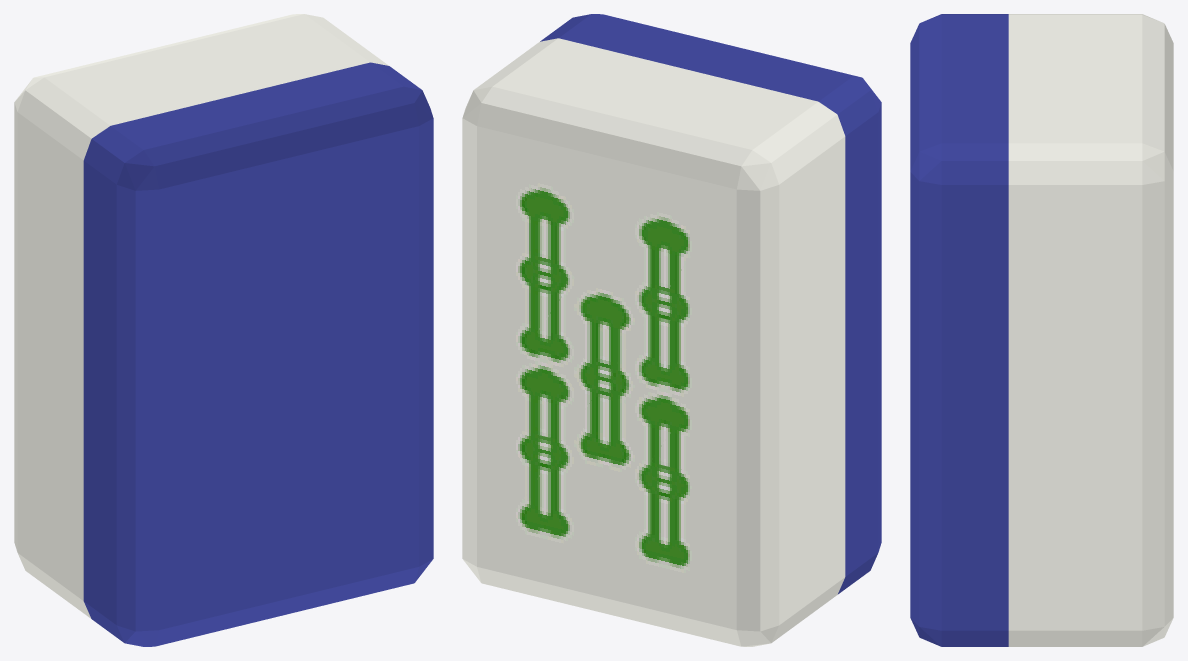
The model's file is ps2_save-icons_mahjonghaoujansoubattle.glb.
3 renders of one model, left to right at view 1: azimuth 30°, elevation 25°; view 2: azimuth 150°, elevation 25°; view 3: azimuth 270°, elevation 25°, orthographic.
Parts seen in each view (by area): view 1: system.ico; view 2: system.ico; view 3: system.ico.
Boxes of the visible parts, x1,y1,x2,y2 form: system.ico: [14, 14, 433, 646]; system.ico: [462, 14, 881, 646]; system.ico: [910, 14, 1173, 646].
Size of the model in its own units: 2.92 by 4.42 by 2.1.
1 material, 1 textured.
